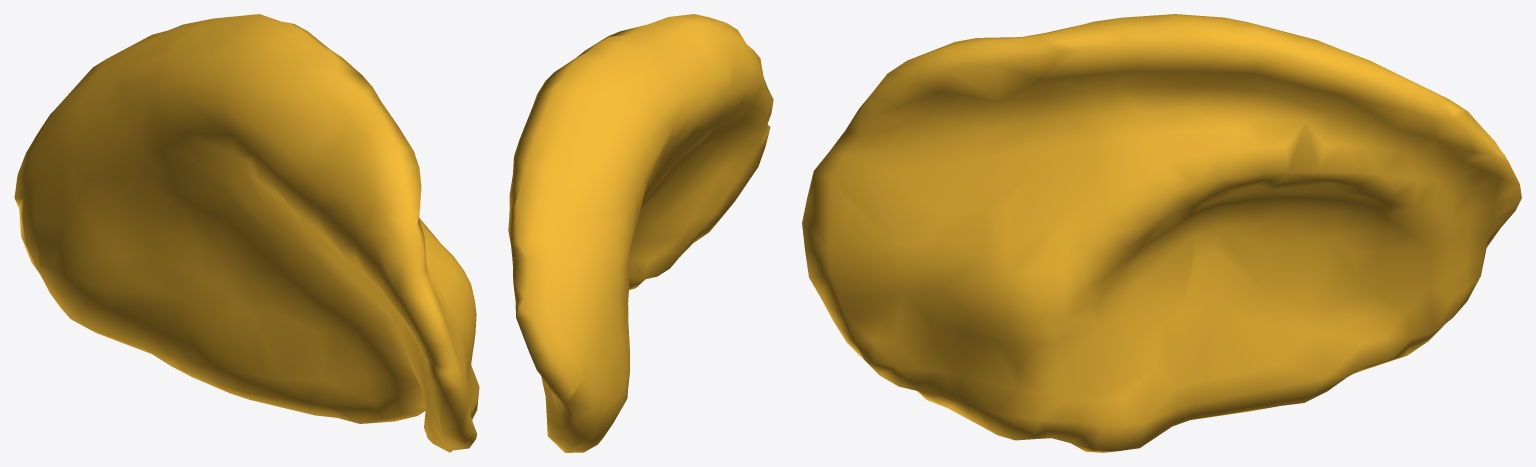
Rendered from nervoso-lentiform-nucleus-r.glb.
The picture shows the model from 3 angles, left to right: view 1: azimuth 30°, elevation 25°; view 2: azimuth 150°, elevation 25°; view 3: azimuth 270°, elevation 25°; orthographic projection. The views are drawn at different scales.
Visible parts, largest first — view 1: Lentiform nucleus.r; view 2: Lentiform nucleus.r; view 3: Lentiform nucleus.r.
Boxes of the visible parts, box(x1,y1,x2,y2) form: Lentiform nucleus.r: box(14, 14, 479, 452); Lentiform nucleus.r: box(508, 14, 773, 452); Lentiform nucleus.r: box(802, 14, 1521, 452).
Bounding box in the file's own units: 0.0222 × 0.0321 × 0.0523.
